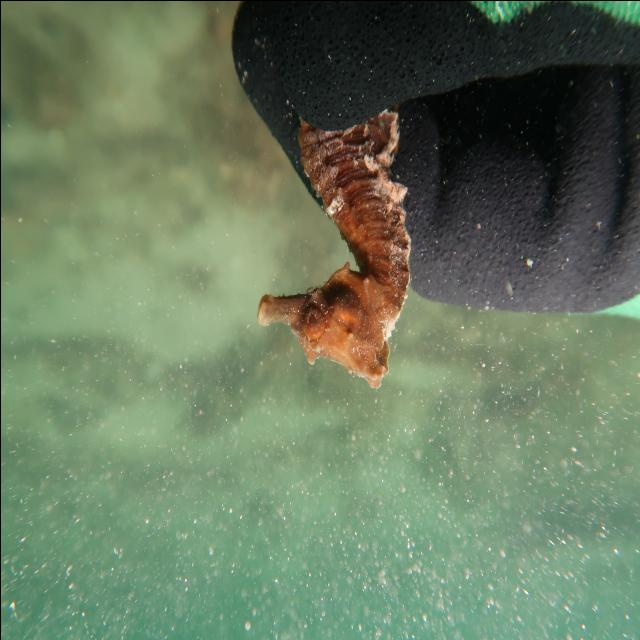Hippo: (252, 257, 391, 394)
